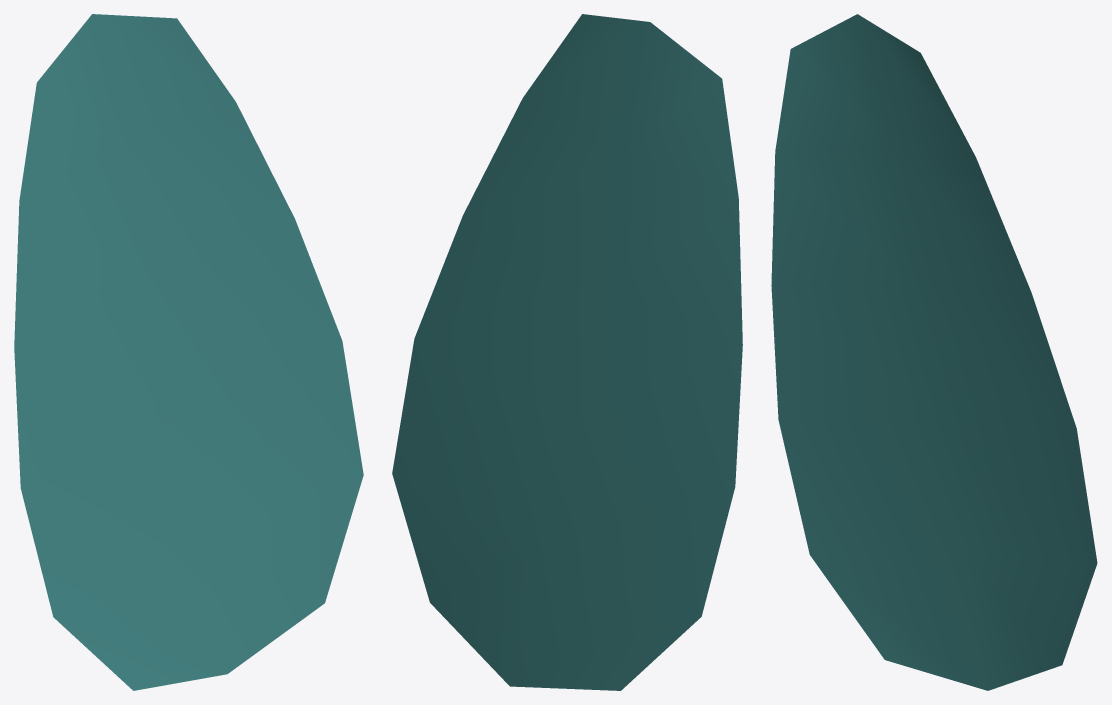
The model's file is budgie_feather_flight_tertiary_048.obj.
The picture shows the model from 3 angles, left to right: view 1: azimuth 30°, elevation 25°; view 2: azimuth 150°, elevation 25°; view 3: azimuth 330°, elevation 25°; orthographic projection. The views are drawn at different scales.
Visible parts, largest first — view 1: feather_flight_tertiary_048; view 2: feather_flight_tertiary_048; view 3: feather_flight_tertiary_048.
Part boxes in pixels (x1,y1,x2,y2): feather_flight_tertiary_048: (14, 14, 363, 690); feather_flight_tertiary_048: (392, 14, 742, 690); feather_flight_tertiary_048: (771, 14, 1097, 690).
Bounding box in the file's own units: 0.00767 × 0.0146 × 0.000415.
